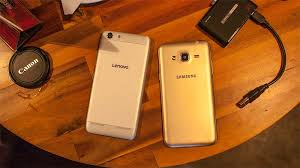lenovo: (157, 38, 221, 150)
